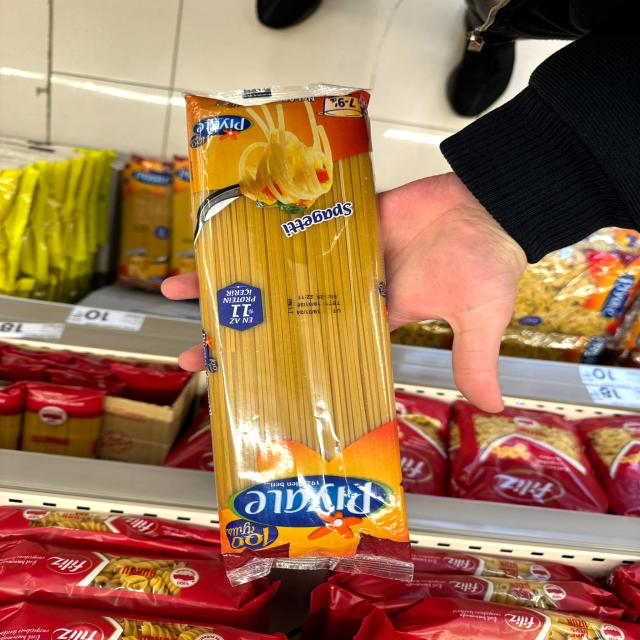spaghetti: (179, 96, 420, 576)
